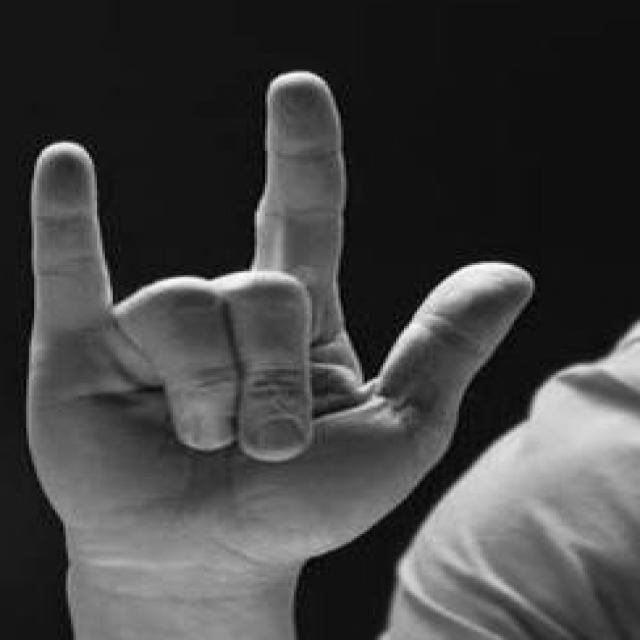i love you: (11, 62, 544, 615)
